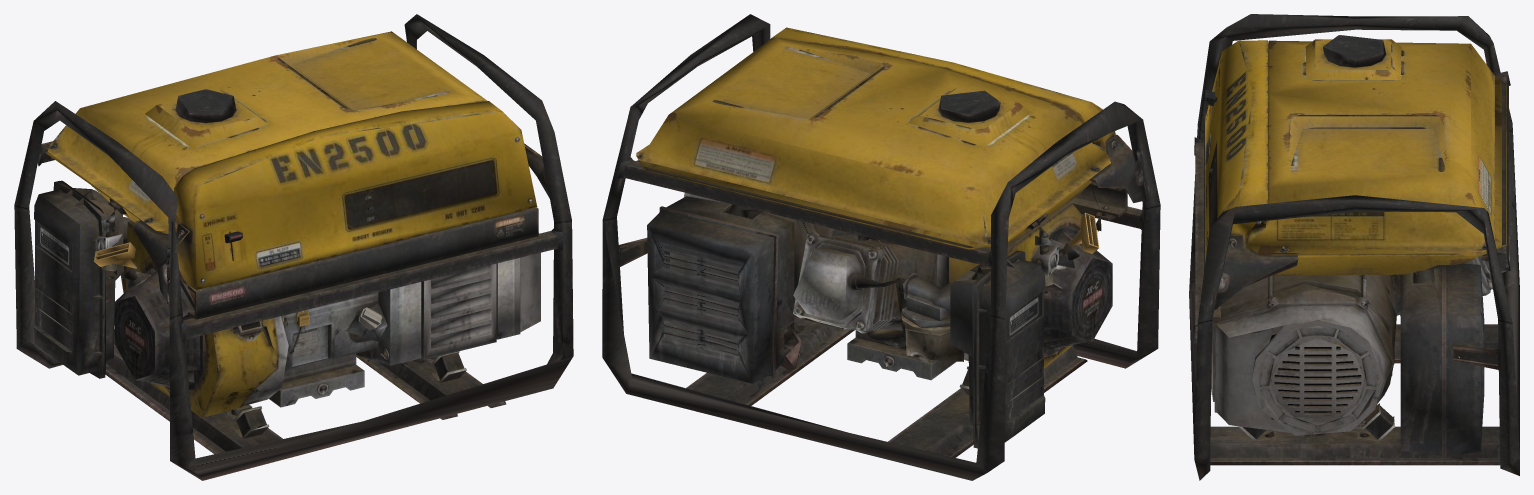
The model's file is portable_generator.gltf.
3 renders of one model, left to right at view 1: azimuth 30°, elevation 25°; view 2: azimuth 150°, elevation 25°; view 3: azimuth 270°, elevation 25°, orthographic.
Parts seen in each view (by area): view 1: portable_generator; view 2: portable_generator; view 3: portable_generator.
Boxes of the visible parts, <box> form: portable_generator: <box>14,14,573,480</box>; portable_generator: <box>602,14,1160,480</box>; portable_generator: <box>1189,14,1519,480</box>.
Size of the model in its own units: 0.8146 by 0.5752 by 0.5615.
Materials: 2 (2 with a texture image).
